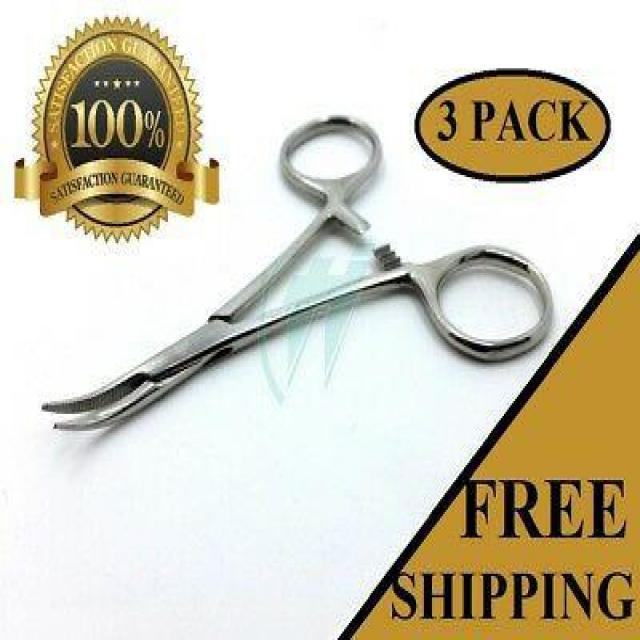Hemostat: (39, 109, 558, 442)
